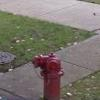Hydrant: (21, 39, 71, 100)
